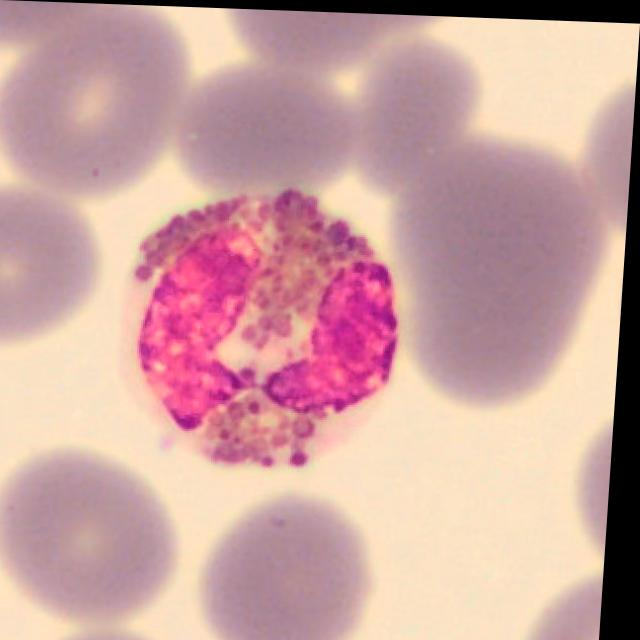Eosinofilo: (134, 187, 405, 466)
